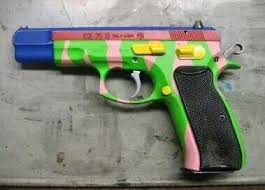Arma Falsa: (10, 19, 253, 176)
